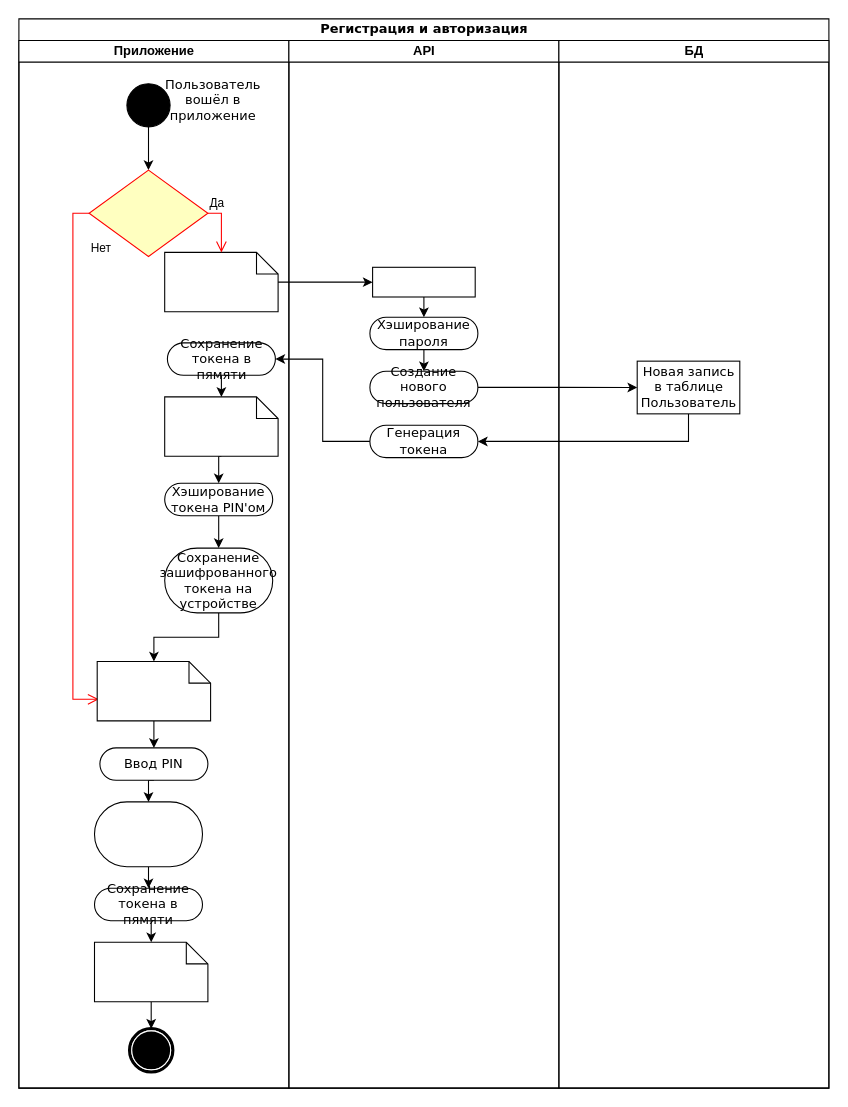
Some shapes in this 848 by 1107 pixel diagram are drawn without their labels. Each missing label, with the centre of its shape:
"Декодирование токена PIN'ом" belongs at point 147,834.
"Метод POST /users/" belongs at point 423,281.
"Окно авторизации" belongs at point 153,690.
"Окно регистрации" belongs at point 221,281.
"Окно сканера" belongs at point 150,971.
"Окно создания PIN" belongs at point 221,426.
"Это первый вход в приложение?" belongs at point 148,212.
